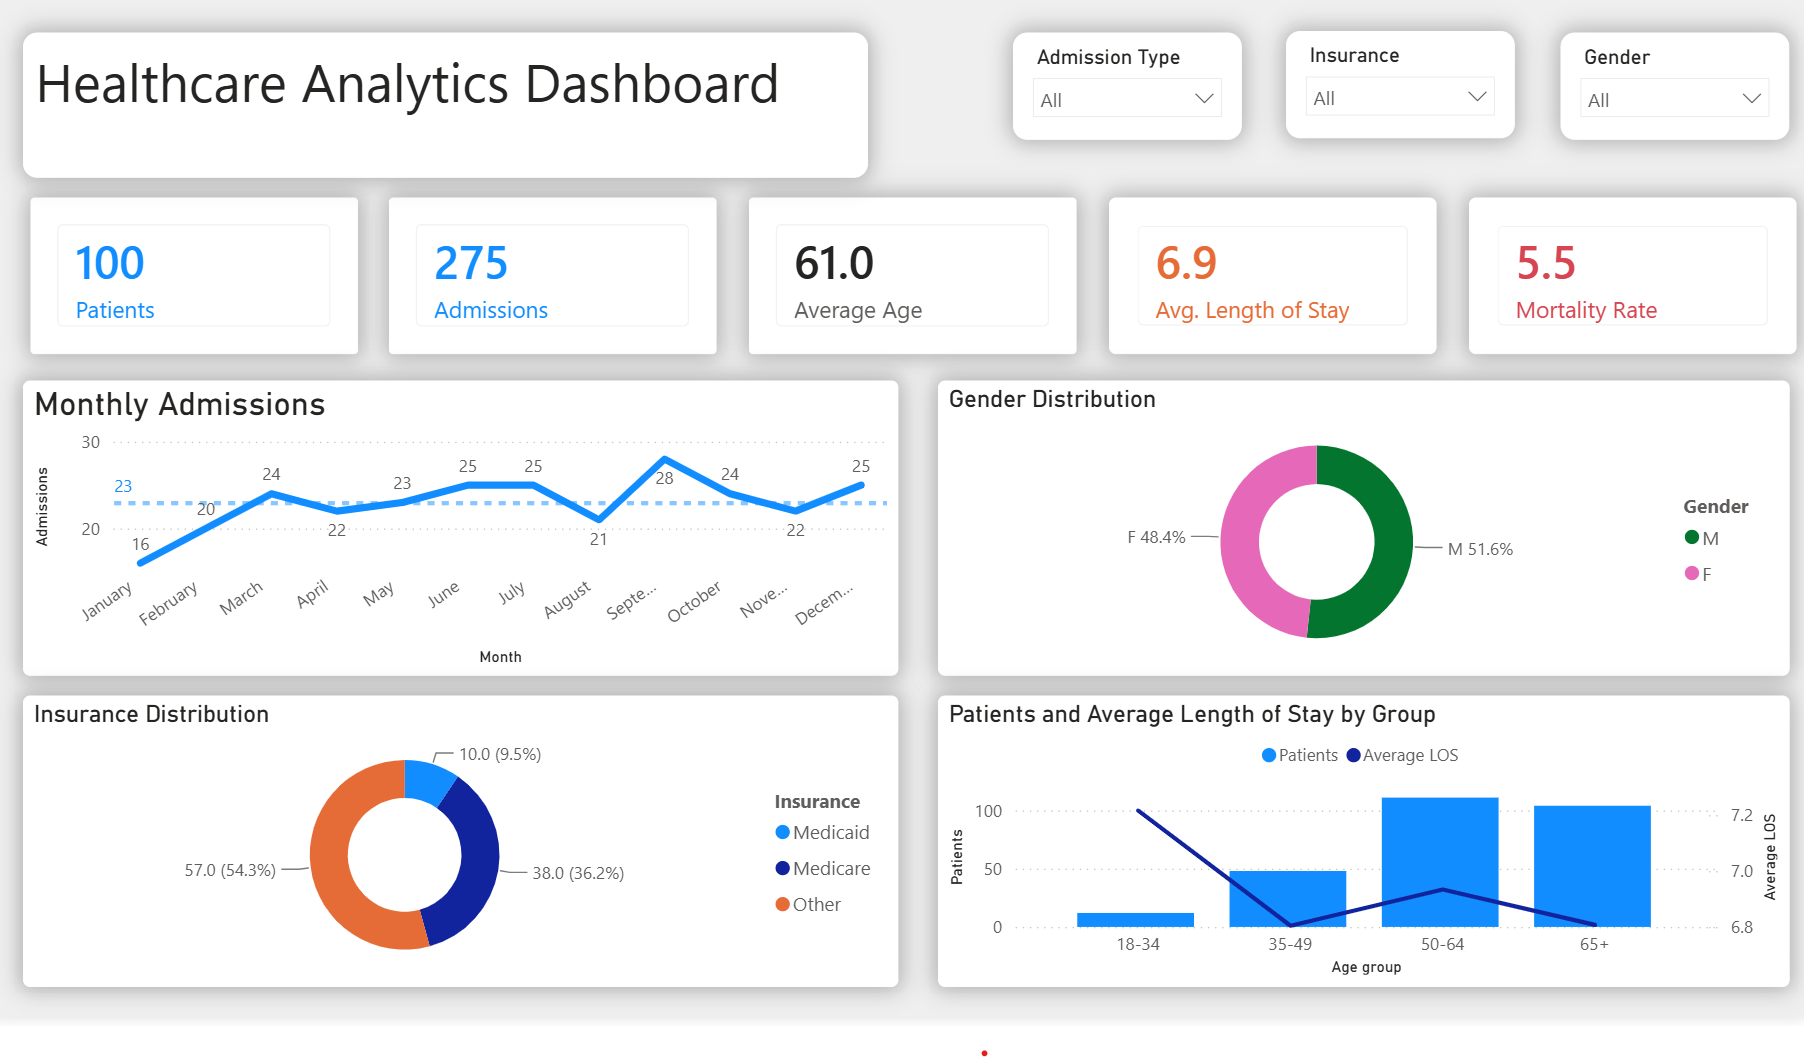

The page's visual inventory and layout, read from the dashboard file:
{"tool":"powerbi","page":{"name":"Executive Overivew","canvas":[1280,720],"ordinal":0},"visuals":[{"type":"cardVisual","fields":{"Data":["Count(public patient_summary_view.subject_id)"]},"box":[30.4,144.3,230.1,110],"z":0},{"type":"cardVisual","fields":{"Data":["CountNonNull(public patient_summary_view.hadm_id)"]},"box":[282.8,144.3,230.1,110],"z":1000},{"type":"cardVisual","fields":{"Data":["Avg(public vw_dashboard_kpis.avg_los)"]},"box":[787.6,144.3,230.1,110],"z":2000},{"type":"cardVisual","fields":{"Data":["Avg(public vw_dashboard_kpis.mortality_rate)"]},"box":[1040.1,144.3,230.1,110],"z":3000},{"type":"cardVisual","fields":{"Data":["Avg(public patient_summary_view.anchor_age)"]},"box":[535.2,144.3,230.1,110],"z":4000},{"type":"lineChart","title":"Monthly Admissions","fields":{"Category":["public vw_monthly_admissions.month.Variation.Date Hierarchy.Month"],"Y":["Sum(public vw_monthly_admissions.admissions)"]},"box":[25.6,272.7,614.9,207.3],"z":5000},{"type":"donutChart","title":"Insurance Distribution","fields":{"Category":["public vw_insurance_summary.insurance"],"Y":["Count(public patient_summary_view.subject_id)"]},"box":[25.6,494.2,614.9,204.5],"z":6000},{"type":"donutChart","title":"Gender Distribution","fields":{"Y":["CountNonNull(public patient_analysis_view.gender)"],"Category":["public patient_analysis_view.gender"]},"box":[667.5,272.7,597.9,207.3],"z":7000},{"type":"lineClusteredColumnComboChart","title":"Patients and Average Length of Stay by Group","fields":{"Category":["public vw_age_summary.age_group"],"Y":["CountNonNull(public patient_analysis_view.anchor_age)"],"Y2":["Avg(public patient_analysis_view.length_of_stay)"]},"box":[667.5,494.2,597.9,204.5],"z":8000},{"type":"textbox","box":[25.6,28.4,593.6,102.2],"z":9000},{"type":"slicer","fields":{"Values":["public patient_analysis_view.admission_type"]},"box":[720,28.4,160.5,75.3],"z":10000},{"type":"slicer","fields":{"Values":["public patient_analysis_view.insurance"]},"box":[912.4,27,160.5,75.3],"z":11000},{"type":"slicer","fields":{"Values":["public patient_analysis_view.gender"]},"box":[1104.9,28.4,160.5,75.3],"z":12000}]}

Visuals, with their boxes on the page's 1280x720 design canvas (x1, y1, x2, y2). These are canvas units, not pixel positions in the 1804x1057 screenshot, which may show the page scaled, cropped or inside an application window:
cardVisual - Count(public patient_summary_view.subject_id): pyautogui.locateOnScreen(30, 144, 260, 254)
cardVisual - CountNonNull(public patient_summary_view.hadm_id): pyautogui.locateOnScreen(283, 144, 513, 254)
cardVisual - Avg(public vw_dashboard_kpis.avg_los): pyautogui.locateOnScreen(788, 144, 1018, 254)
cardVisual - Avg(public vw_dashboard_kpis.mortality_rate): pyautogui.locateOnScreen(1040, 144, 1270, 254)
cardVisual - Avg(public patient_summary_view.anchor_age): pyautogui.locateOnScreen(535, 144, 765, 254)
"Monthly Admissions" lineChart: pyautogui.locateOnScreen(26, 273, 640, 480)
"Insurance Distribution" donutChart: pyautogui.locateOnScreen(26, 494, 640, 699)
"Gender Distribution" donutChart: pyautogui.locateOnScreen(668, 273, 1265, 480)
"Patients and Average Length of Stay by Group" lineClusteredColumnComboChart: pyautogui.locateOnScreen(668, 494, 1265, 699)
textbox: pyautogui.locateOnScreen(26, 28, 619, 131)
slicer - public patient_analysis_view.admission_type: pyautogui.locateOnScreen(720, 28, 880, 104)
slicer - public patient_analysis_view.insurance: pyautogui.locateOnScreen(912, 27, 1073, 102)
slicer - public patient_analysis_view.gender: pyautogui.locateOnScreen(1105, 28, 1265, 104)
